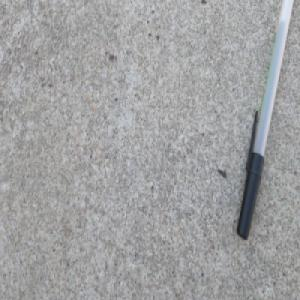Pen: (236, 0, 295, 241)
